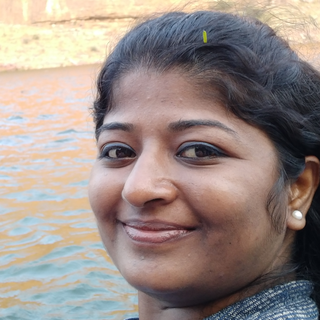eye: (175, 138, 232, 165), (95, 139, 141, 165)
